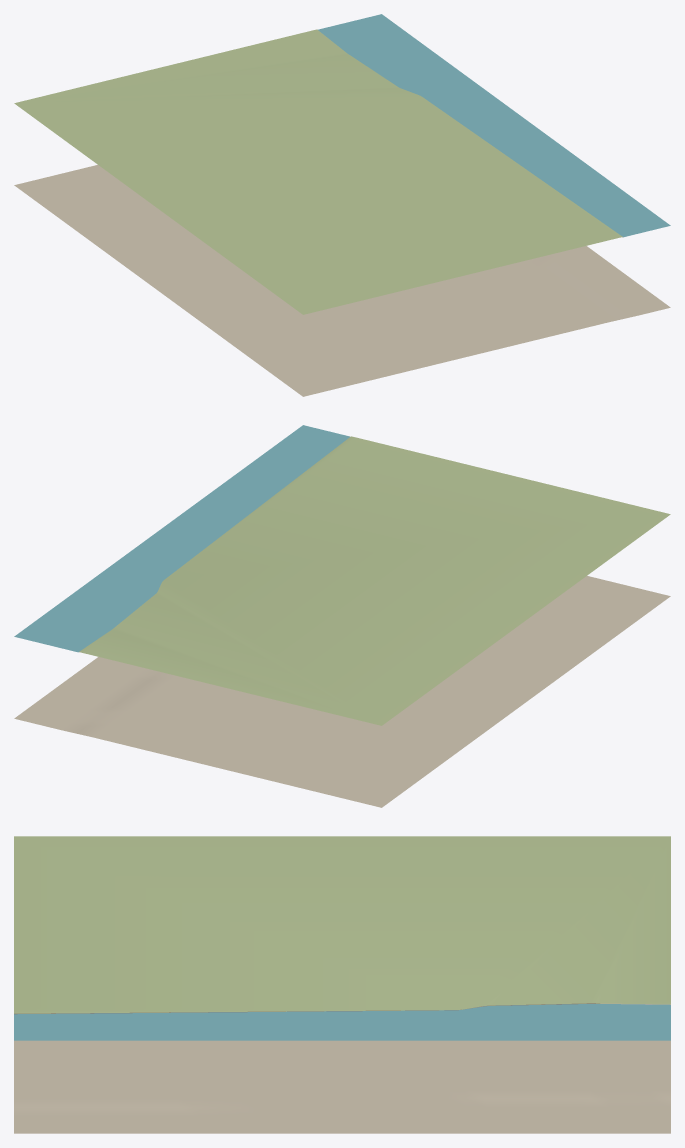
The picture shows the model from 3 angles, top to bottom: view 1: azimuth 30°, elevation 25°; view 2: azimuth 150°, elevation 25°; view 3: azimuth 270°, elevation 25°; orthographic projection. The views are drawn at different scales.
Visible parts, largest first — view 1: s_-13_0__grass, s_-13_0__soil, s_-13_0__water; view 2: s_-13_0__grass, s_-13_0__soil, s_-13_0__water; view 3: s_-13_0__grass, s_-13_0__soil, s_-13_0__water, s_-13_0__shore_bank.
Boxes of the visible parts, x1,y1,x2,y2 form: s_-13_0__grass: (14,29,622,314); s_-13_0__soil: (14,165,670,396); s_-13_0__water: (318,14,670,237); s_-13_0__grass: (79,436,670,725); s_-13_0__soil: (14,576,670,807); s_-13_0__water: (14,425,349,652); s_-13_0__grass: (14,836,670,1013); s_-13_0__soil: (14,1003,670,1133); s_-13_0__water: (14,1004,670,1040); s_-13_0__shore_bank: (14,1003,595,1014).
Size of the model in its own units: 94 by 20.14 by 128.
